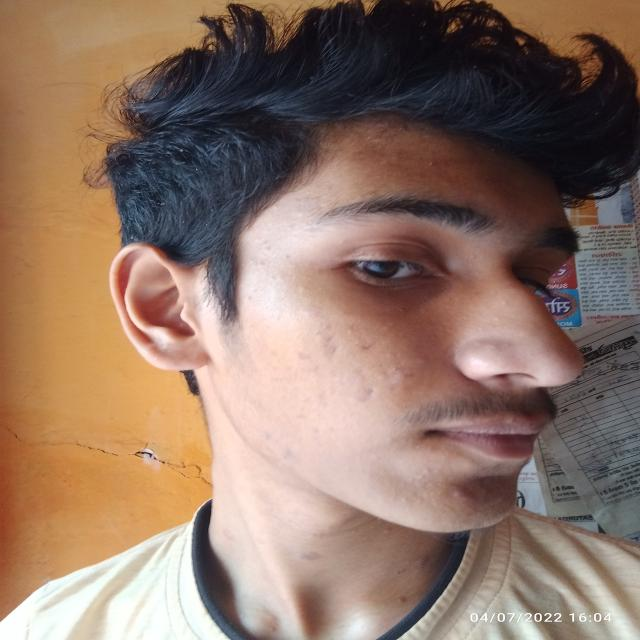Acne: (312, 323, 340, 357), (382, 367, 418, 384), (348, 386, 380, 399), (355, 339, 383, 353), (315, 388, 331, 409), (446, 489, 466, 501), (277, 446, 297, 457), (292, 350, 311, 360), (259, 431, 274, 441), (294, 412, 306, 419)
